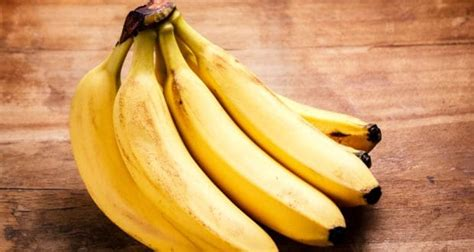banana: (161, 68, 348, 246), (190, 47, 384, 212), (113, 72, 279, 252), (66, 64, 187, 252)
